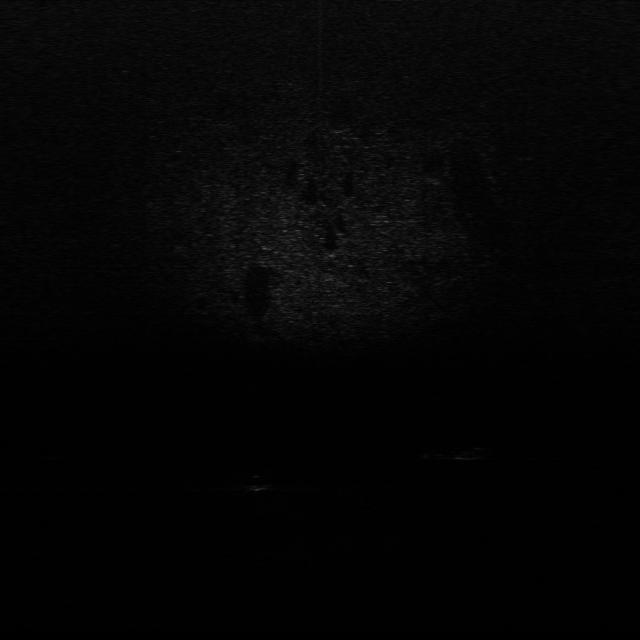ball: (247, 470, 277, 492)
human body: (419, 440, 502, 462)
